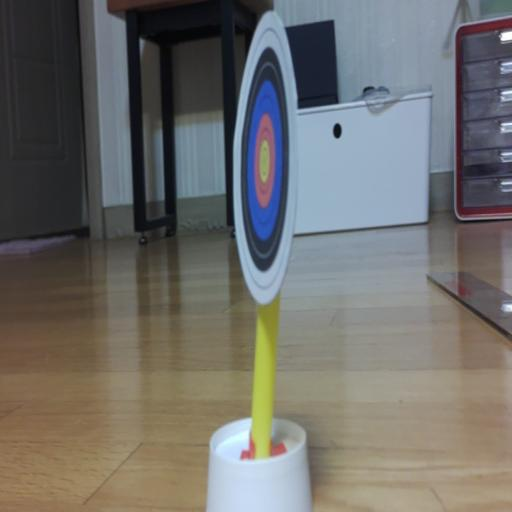target: (233, 11, 298, 304)
